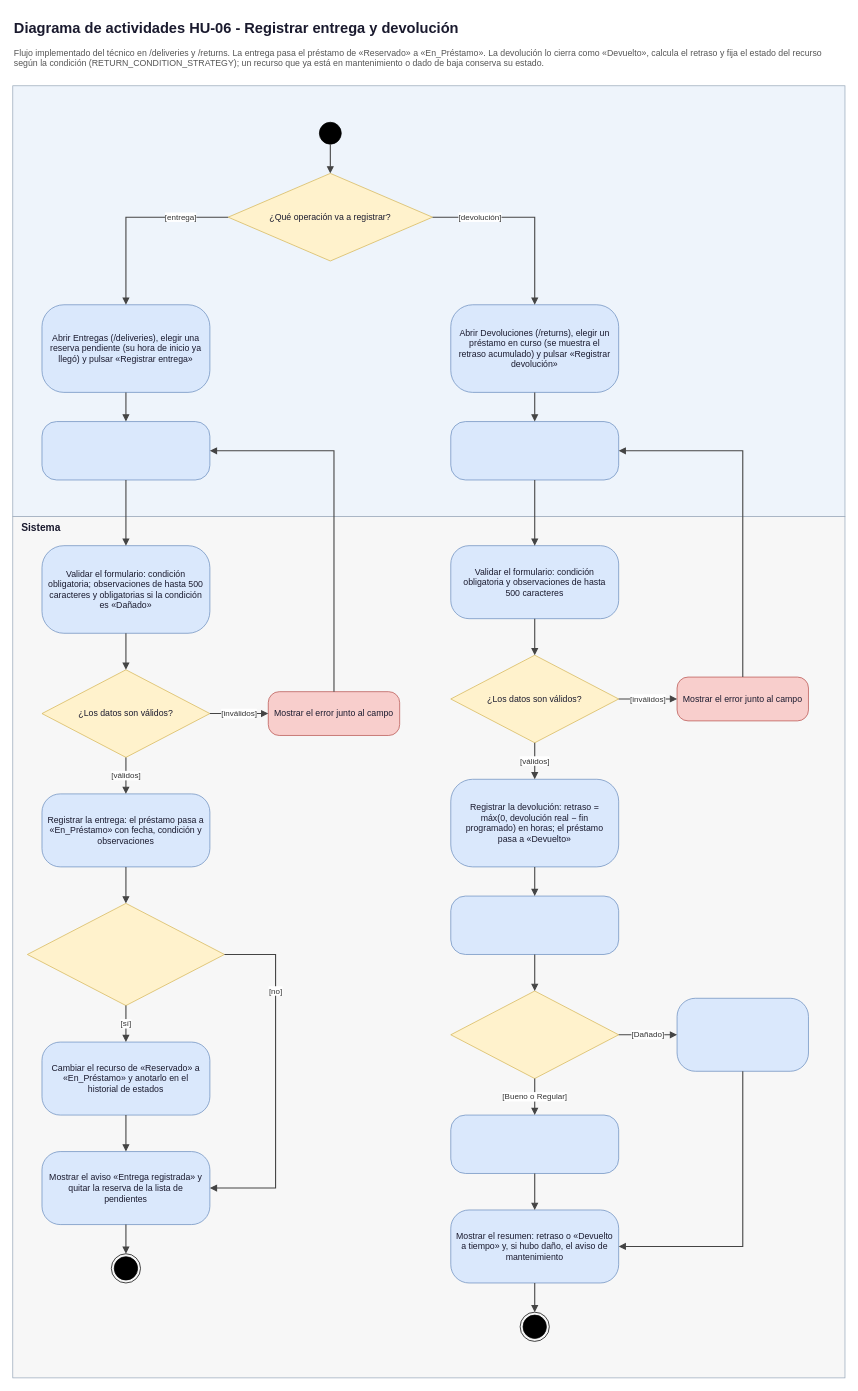
This 858x1391 diagram has some shape labels left out. Here are the shapes that lost their labels. From the top down, the box of each, then its label:
(12, 85, 845, 516): Técnico de laboratorio
(41, 421, 210, 480): Indicar la condición del recurso y las observaciones, y confirmar la entrega
(450, 421, 619, 480): Indicar la condición del recurso y las observaciones, y confirmar la devolución
(450, 895, 619, 954): Sumar una unidad a la cantidad disponible del recurso
(27, 903, 224, 1006): ¿Recurso agotado sin más reservas por entregar?
(450, 990, 619, 1079): ¿Qué condición se registró?
(676, 998, 808, 1071): Pasar el recurso a «En_Mantenimiento» (estrategia por condición)
(450, 1114, 619, 1173): Pasar el recurso a «Disponible» (estrategia por condición)
